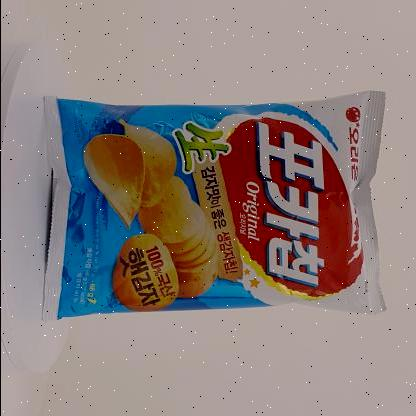Others: (34, 81, 396, 344)
